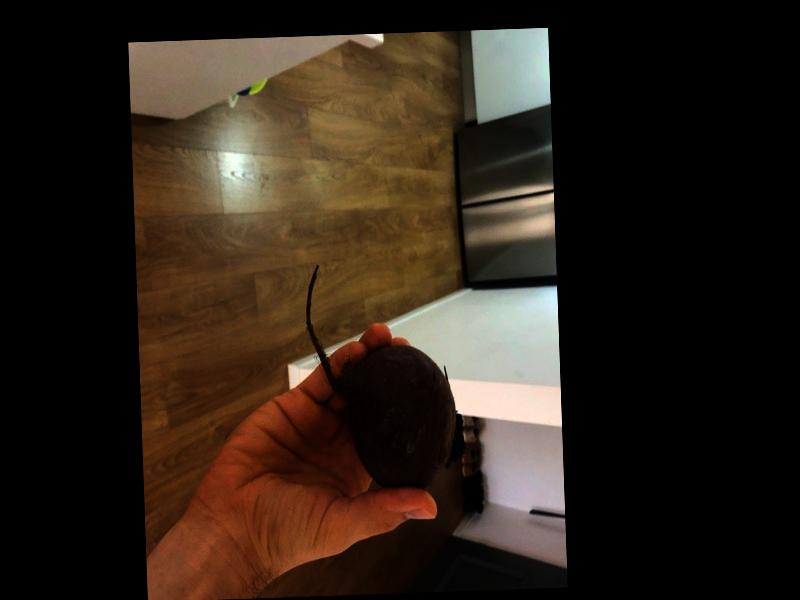Beet: (304, 260, 465, 491)
